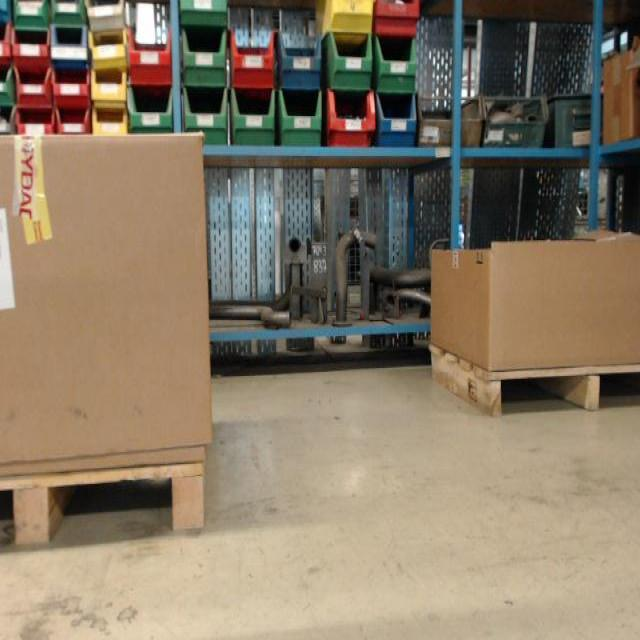pallet: (0, 459, 206, 551), (429, 345, 640, 418)
